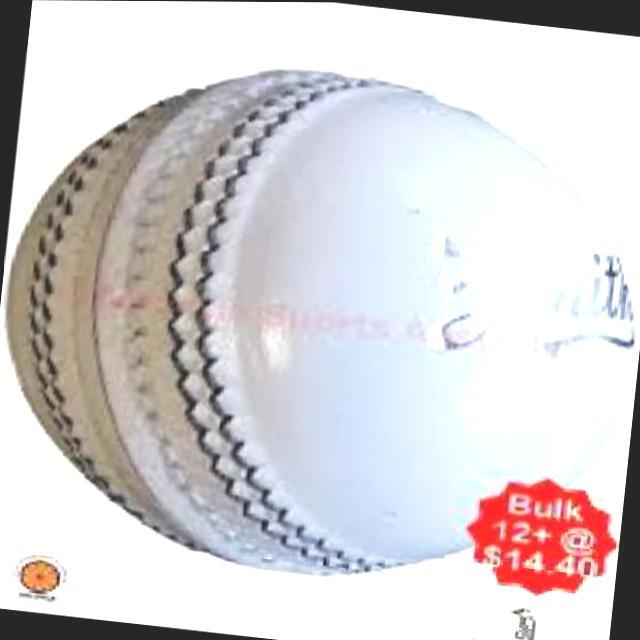-: (4, 51, 549, 558)
